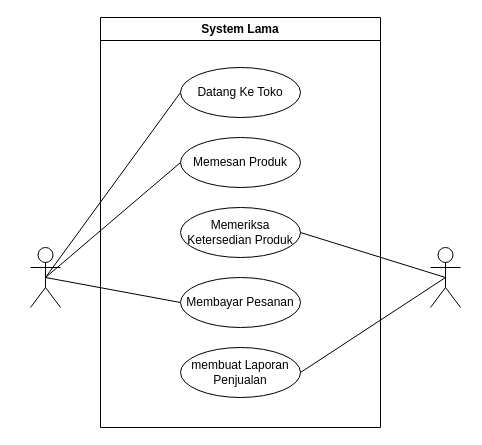
Image size: 482x445. Some labels were removed from this diagram. Each missing label, with the centre of its shape:
"Pelanggan" goes at [45,277].
"Pemilik" goes at [445,277].
